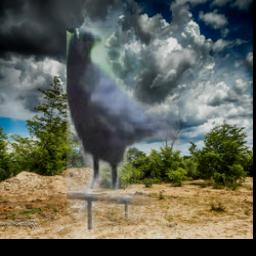Crow: (66, 28, 179, 230)
